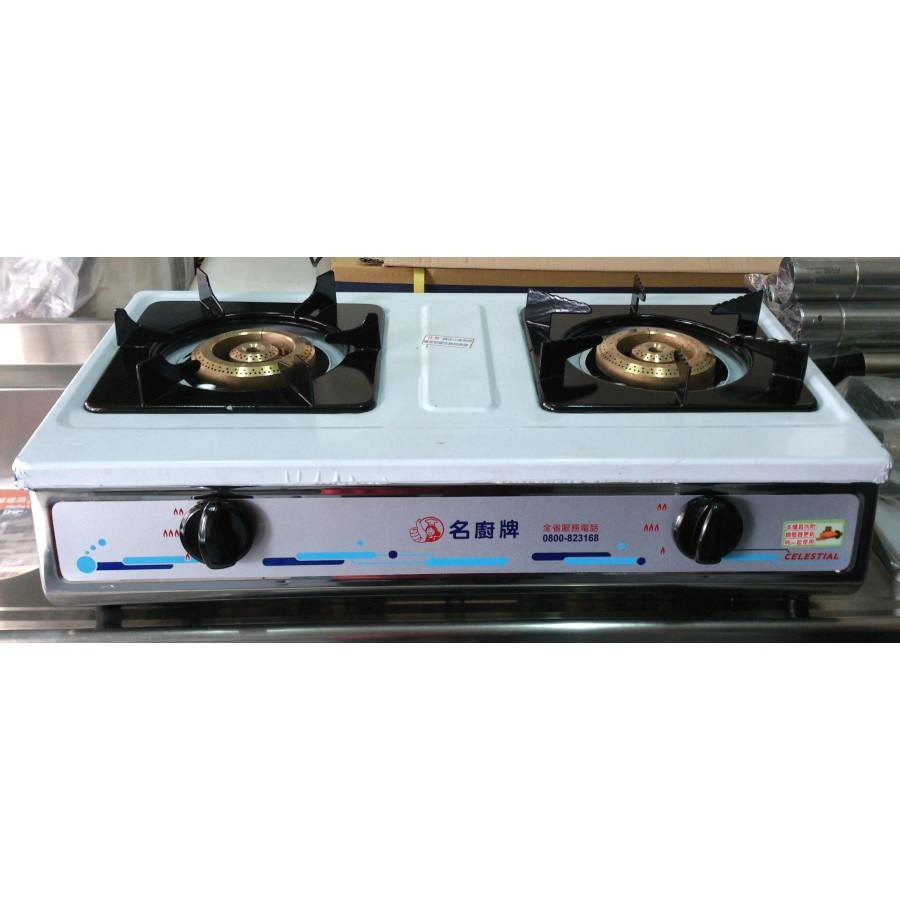gasoven: (14, 274, 887, 608)
